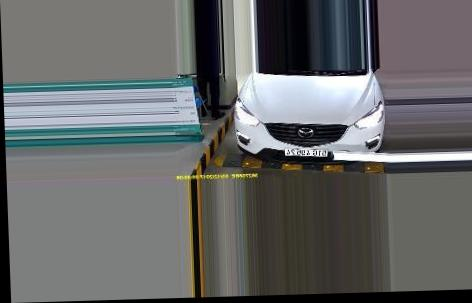License_Plate: (281, 145, 328, 160)
